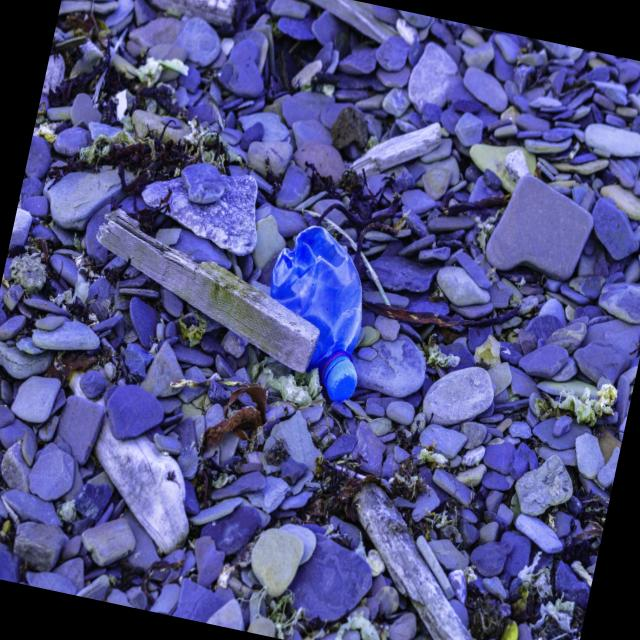less trash: (270, 225, 362, 402)
